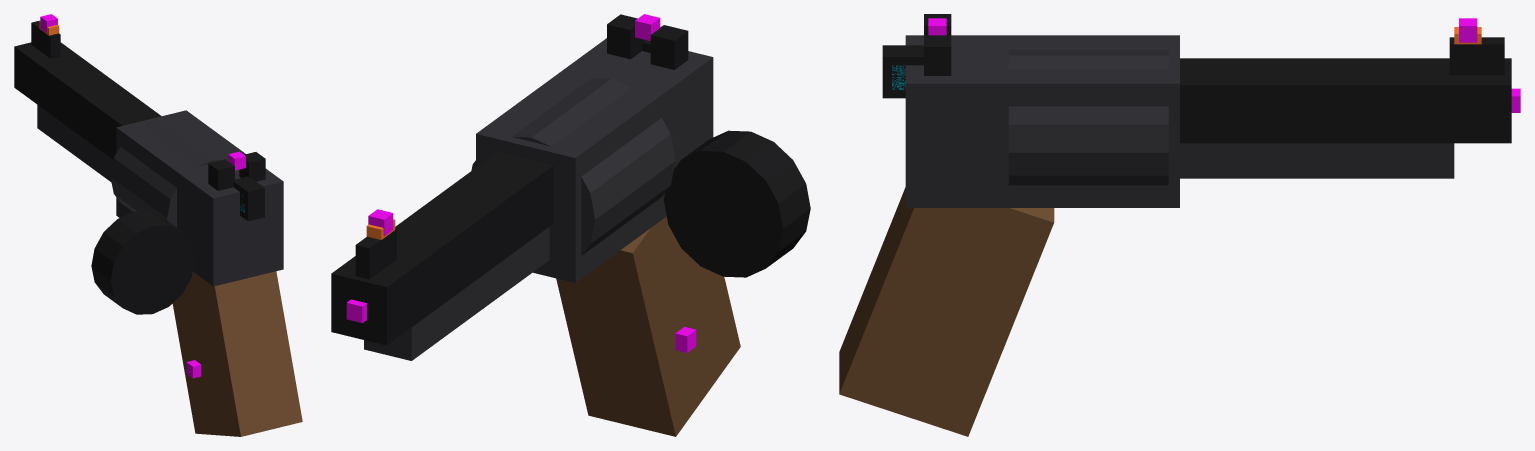
Rendered from Revolver.obj.
3 views of the same model, side by side, from view 1: azimuth 30°, elevation 25°; view 2: azimuth 150°, elevation 25°; view 3: azimuth 270°, elevation 25° (orthographic). The views are drawn at different scales.
Parts seen in each view (by area): view 1: Grip, Skin_Frame, Loader, Barrel, Skin_Cylinder, Lug, Hammer, FrontPost, RearL, RearR; view 2: Grip, Skin_Frame, Barrel, Loader, Skin_Cylinder, Lug, FrontPost, RearL, RearR, Point_SightRear, Point_LeftHand, Point_SightFront; view 3: Grip, Skin_Frame, Barrel, Skin_Cylinder, Lug, FrontPost, Hammer, RearR.
Part boxes in pixels (<box>): Grip: <box>172,271,302,436</box>; Skin_Frame: <box>116,110,283,286</box>; Loader: <box>91,211,194,314</box>; Barrel: <box>14,42,161,159</box>; Skin_Cylinder: <box>110,118,224,227</box>; Lug: <box>37,105,113,182</box>; Hammer: <box>233,176,264,221</box>; FrontPost: <box>31,20,60,58</box>; RearL: <box>208,159,234,190</box>; RearR: <box>239,152,265,181</box>; Grip: <box>556,216,740,436</box>; Skin_Frame: <box>476,38,713,282</box>; Barrel: <box>331,152,553,345</box>; Loader: <box>663,130,810,277</box>; Skin_Cylinder: <box>471,78,675,255</box>; Lug: <box>364,227,549,360</box>; FrontPost: <box>355,228,396,279</box>; RearL: <box>650,25,688,69</box>; RearR: <box>607,14,644,59</box>; Point_SightRear: <box>635,14,660,40</box>; Point_LeftHand: <box>675,326,696,352</box>; Point_SightFront: <box>368,209,393,236</box>; Grip: <box>839,187,1054,436</box>; Skin_Frame: <box>905,35,1179,207</box>; Barrel: <box>1180,58,1511,143</box>; Skin_Cylinder: <box>1008,49,1168,185</box>; Lug: <box>1180,143,1454,178</box>; FrontPost: <box>1449,37,1504,75</box>; Hammer: <box>882,45,923,98</box>; RearR: <box>924,35,951,75</box>.
Size of the model in its own units: 0.59 by 0.9497 by 1.49.
